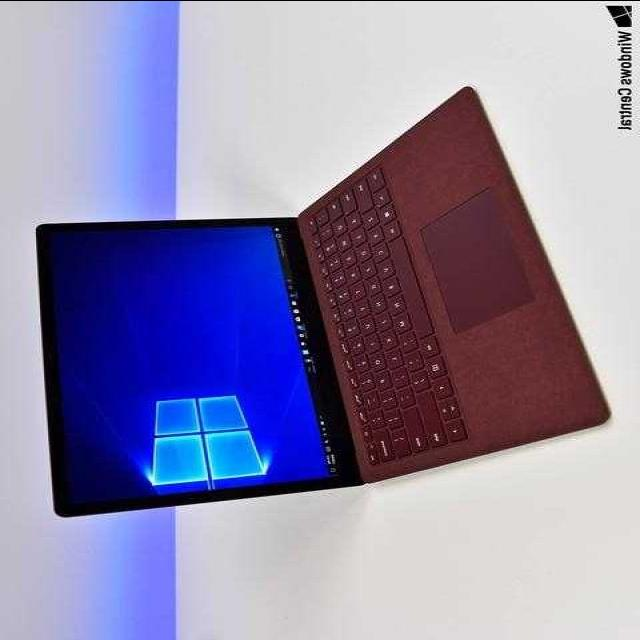laptop: (34, 145, 574, 508)
